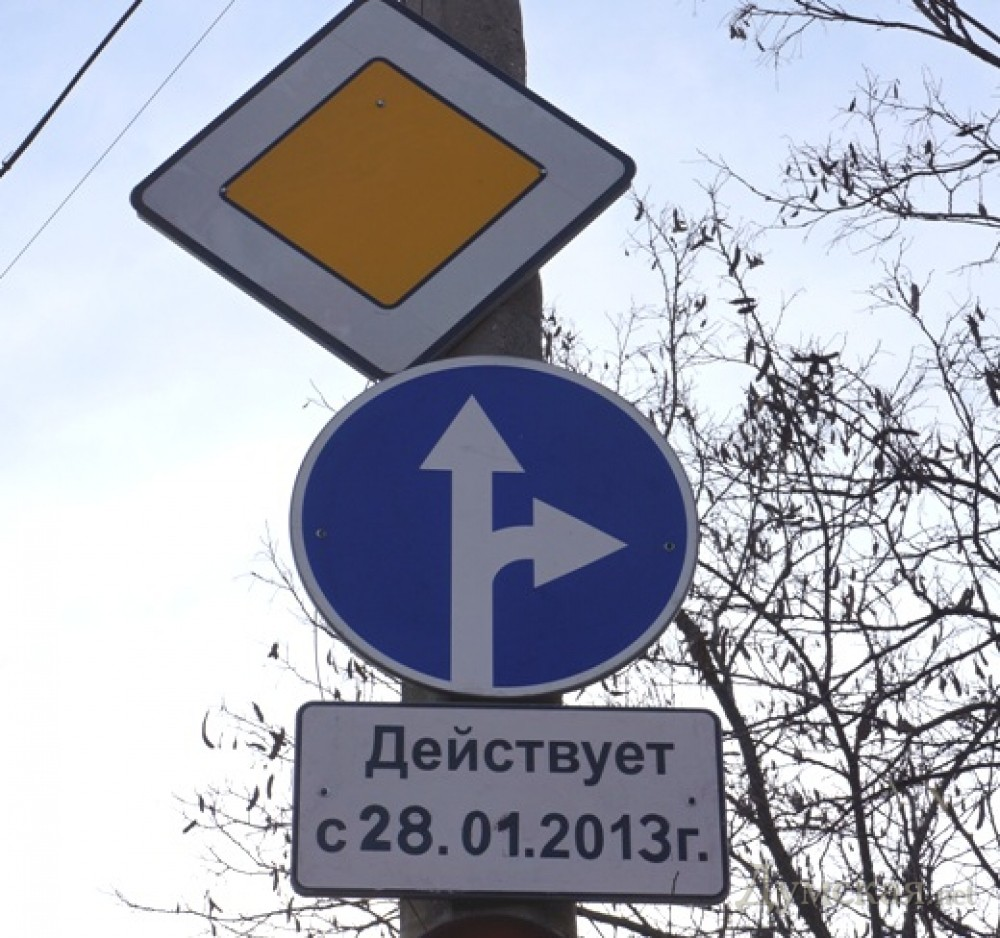ileri_veya_saga: (290, 359, 696, 693)
